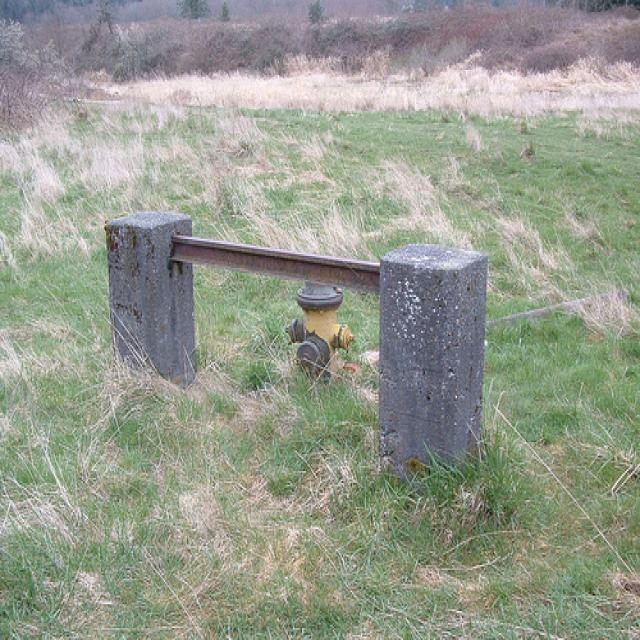fire_hydrant: (286, 282, 354, 386)
